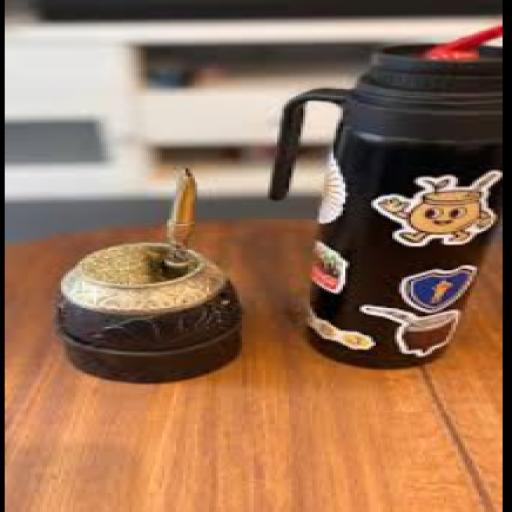mate: (56, 169, 240, 381)
termo: (270, 34, 500, 365)
